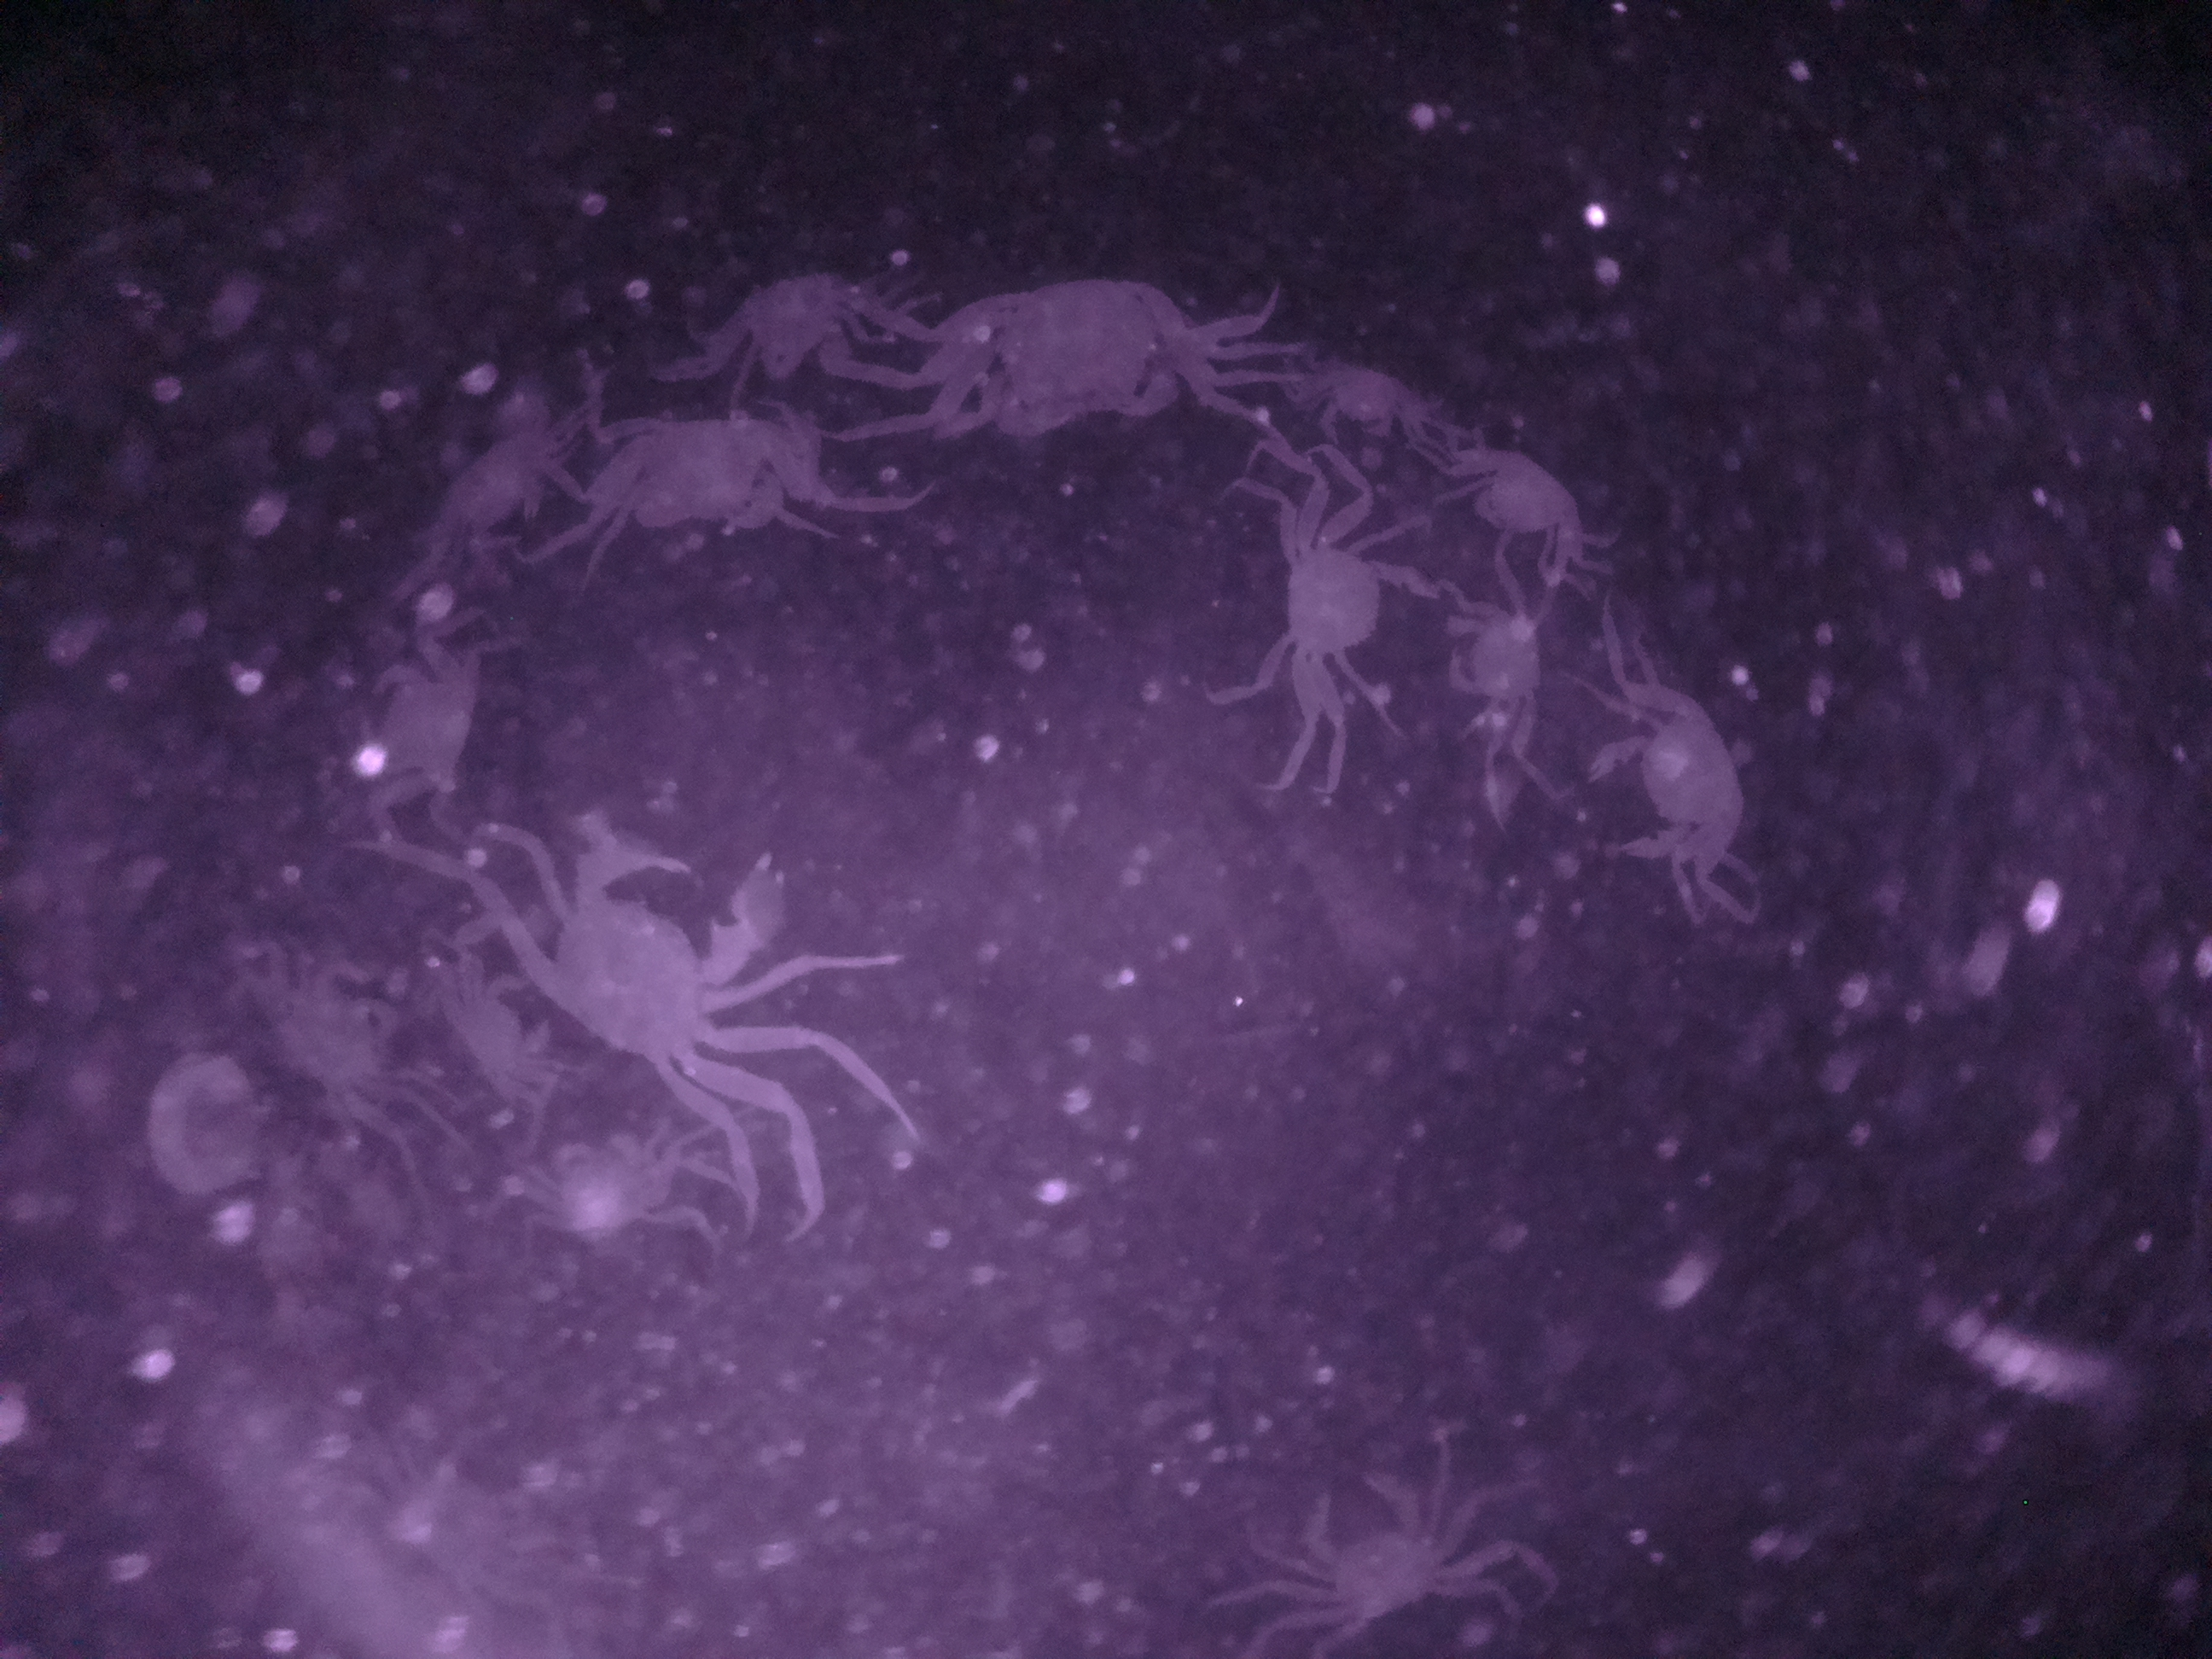Crab: (523, 819, 798, 1094), (949, 265, 1211, 453), (1575, 685, 1778, 871), (1282, 1452, 1465, 1659), (589, 401, 805, 554), (1258, 486, 1414, 695), (1442, 434, 1608, 584), (716, 263, 883, 390), (1433, 582, 1561, 725)
